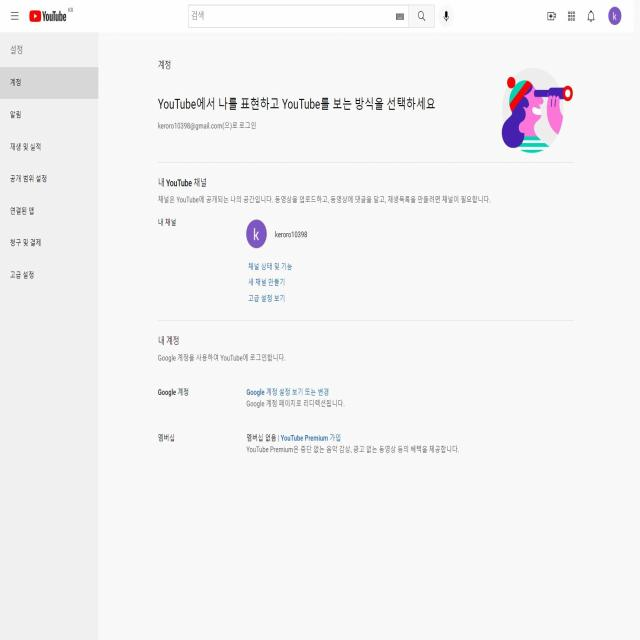button: (409, 5, 434, 28), (438, 4, 455, 29), (586, 8, 596, 24), (567, 9, 577, 23), (546, 10, 557, 22)
input: (188, 5, 410, 28)
